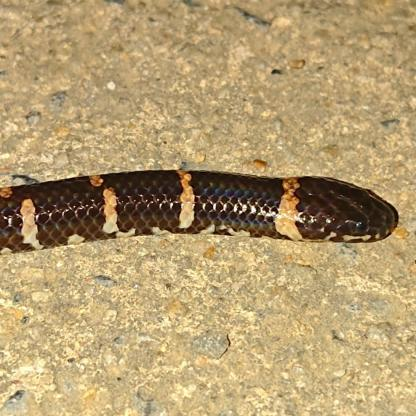Snake: (0, 165, 402, 254)
